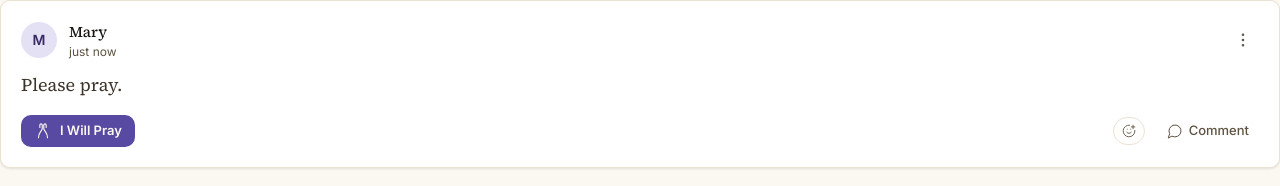
it: PostCard kebab menu › exposes Edit and Delete menuitems for an own post
Click the button named "more actions".
click(1243, 40)  # box x1=1227 y1=24 x2=1259 y2=56
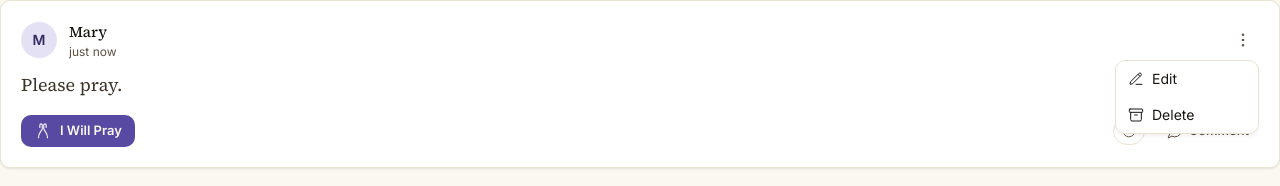
Expected: the menu item "Delete" is shown, x1=1116 y1=97 x2=1258 y2=133
Expected: the menu item "Edit" is shown, x1=1116 y1=61 x2=1258 y2=97
